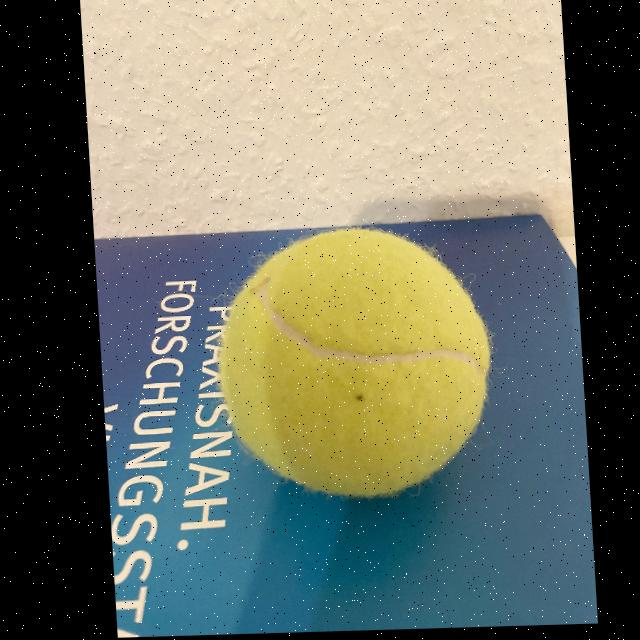Tennisball: (220, 228, 490, 497)
